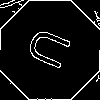U: (25, 25, 81, 76)
